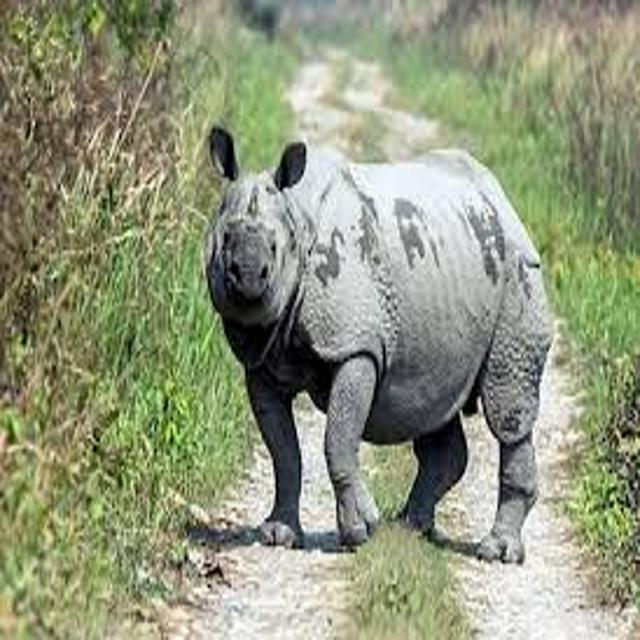rhino: (153, 86, 589, 589)
